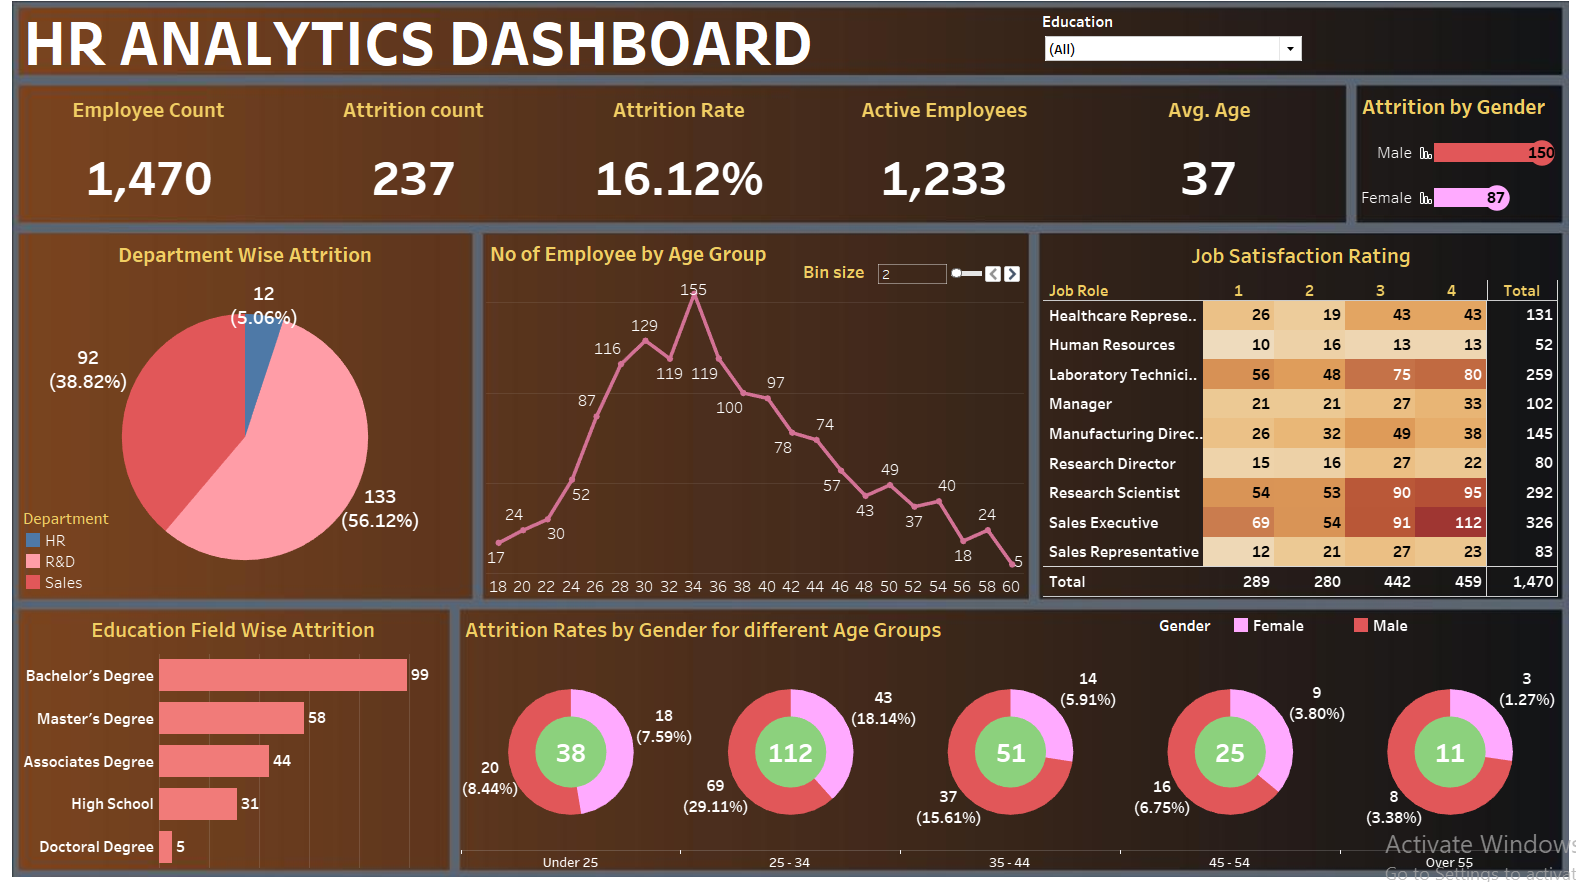

The dashboard page shown, as its layout file describes it:
{"tool":"tableau","page":{"name":"Dashboard 1","canvas":[1620,900],"ordinal":0},"visuals":[{"type":"image","param":"Image/HR background.pptx.jpg","box":[8,8,1604,884]},{"type":"text","box":[39,20,828,63]},{"type":"filter","title":"Attrition Rates by Gender for different Age Groups","param":"[federated.1ryzqj40vex65h1cxdftz1vgsfu9].[none:Education:nk]","box":[1061,22,263,62]},{"type":"worksheet","title":"Attrition by Gender","mark":"Automatic","rows":["Gender"],"cols":["Calculation_1240741718845927424","Calculation_1240741718845927424"],"box":[1377,99,203,132]},{"type":"worksheet","title":"KPI","mark":"Automatic","box":[35,104,1326,133]},{"type":"worksheet","title":"No of employee by age group","mark":"Line","rows":["Employee Count"],"cols":["Age (bin)"],"box":[505,246,538,363]},{"type":"worksheet","title":"Department Wise Attrition","mark":"Pie","box":[39,247,450,360]},{"type":"worksheet","title":"Job Satisfaction Rating","mark":"Square","rows":["Job Role"],"cols":["Job Satisfaction"],"box":[1062,248,516,360]},{"type":"parameter","param":"[Parameters].[Parameter 1]","box":[822,272,220,30]},{"type":"legend","title":"Department Wise Attrition","param":"[federated.1ryzqj40vex65h1cxdftz1vgsfu9].[none:Department:nk]","box":[42,519,98,85]},{"type":"worksheet","title":"Education Field Wise Attrition","mark":"Automatic","rows":["Education"],"cols":["Calculation_1240741718845927424"],"box":[38,622,428,257]},{"type":"worksheet","title":"Attrition Rates by Gender for different Age Groups","mark":"Pie","rows":["Calculation_138204235446169601","Calculation_138204235446169601"],"cols":["CF_age band"],"box":[480,622,1099,261]},{"type":"legend","title":"Attrition Rates by Gender for different Age Groups","param":"[federated.1ryzqj40vex65h1cxdftz1vgsfu9].[none:Gender:nk]","box":[1178,626,315,28]}]}

Visuals, with their boxes in screenshot pixels (x1, y1, x2, y2), scaled from the page's 1620x900 canvas onto the 1576x882 screenshot:
image: crop(8, 8, 1568, 874)
text: crop(38, 20, 843, 81)
"Attrition Rates by Gender for different Age Groups" filter: crop(1032, 22, 1288, 82)
"Attrition by Gender" worksheet: crop(1340, 97, 1537, 226)
"KPI" worksheet: crop(34, 102, 1324, 232)
"No of employee by age group" worksheet (Line marks): crop(491, 241, 1015, 597)
"Department Wise Attrition" worksheet (Pie marks): crop(38, 242, 476, 595)
"Job Satisfaction Rating" worksheet (Square marks): crop(1033, 243, 1535, 596)
parameter: crop(800, 267, 1014, 296)
"Department Wise Attrition" legend: crop(41, 509, 136, 592)
"Education Field Wise Attrition" worksheet: crop(37, 610, 453, 861)
"Attrition Rates by Gender for different Age Groups" worksheet (Pie marks): crop(467, 610, 1536, 865)
"Attrition Rates by Gender for different Age Groups" legend: crop(1146, 613, 1452, 641)
